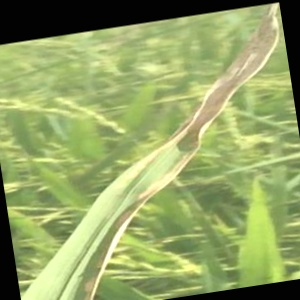Leaf_Blast: (108, 124, 202, 221)
